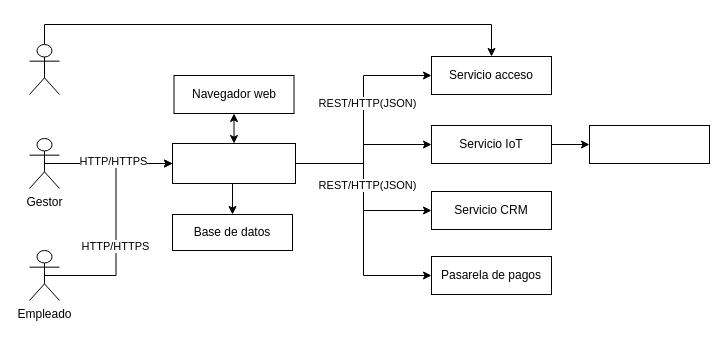
Some shapes in this 727 by 339 pixel diagram are drawn without their labels. Here are the shapes that lost their labels. From the top down, the centre of each, then its label:
the point at 44,69: Cliente
the point at 234,163: Plataforma central (API Unificada)
the point at 649,144: Sistema ERP
